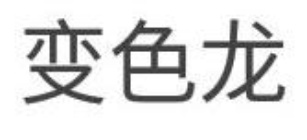TextView: (1, 1, 306, 139)
